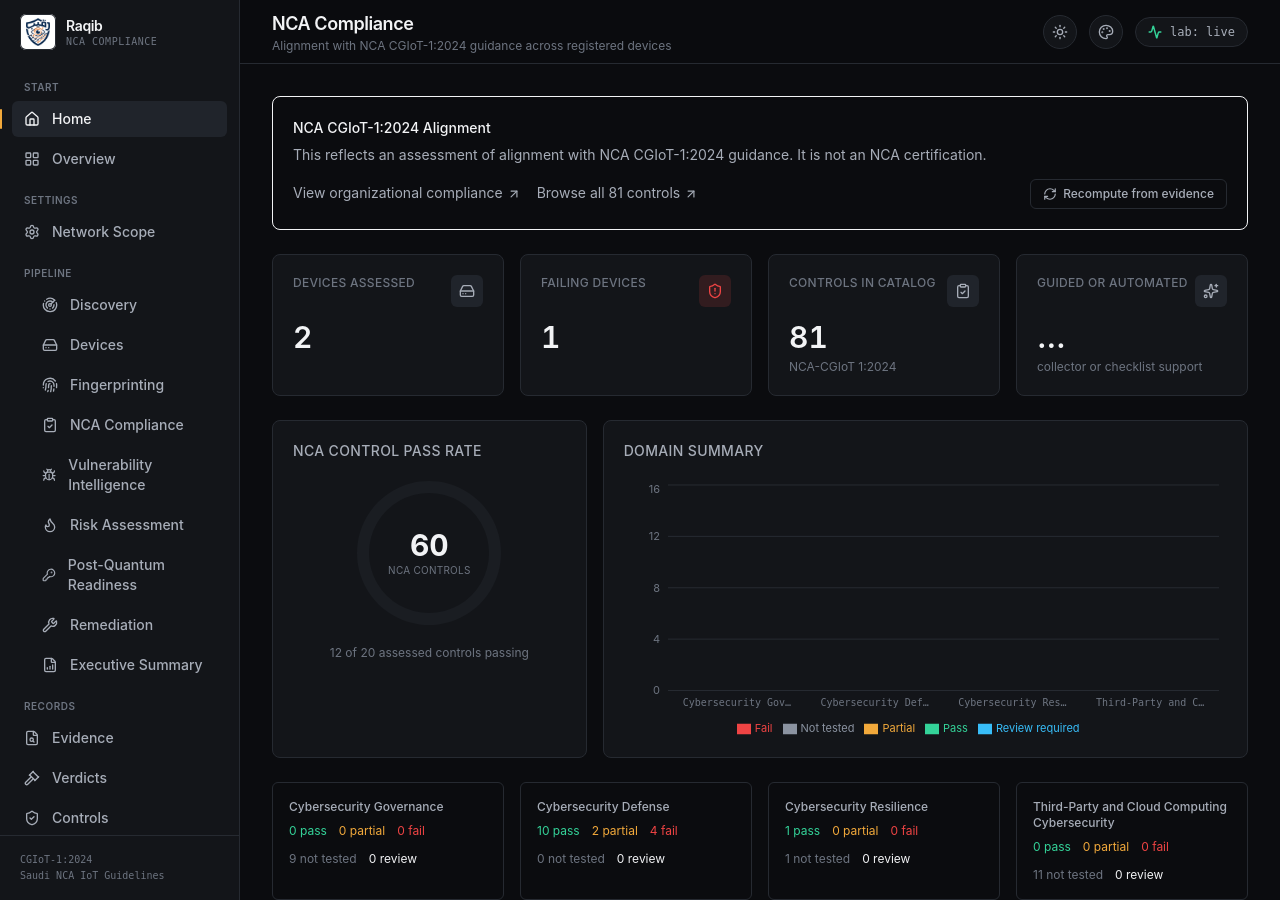
Scenario: NCACompliancePage › shows a neutral message when recompute finds nothing new
The image size is (1280, 900).
Check: the text "NCA CGIoT-1:2024 Alignment" is shown, box 293,119 -> 491,136
Step 1. Click the button "Recompute from evidence" → click(1129, 194), box 1030,178 -> 1227,208
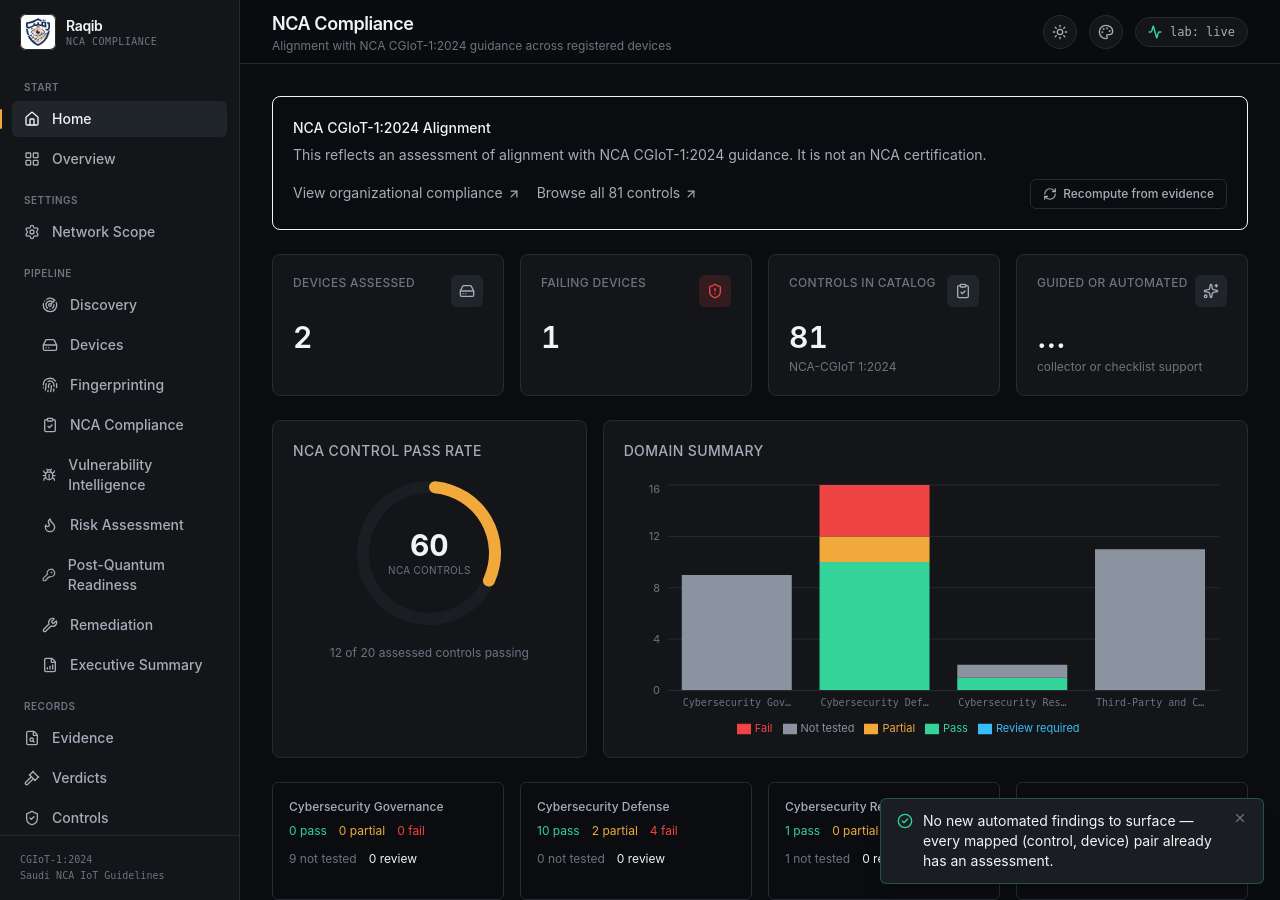
Check: the text "No new automated findings" is shown, box 923,812 -> 1212,869
